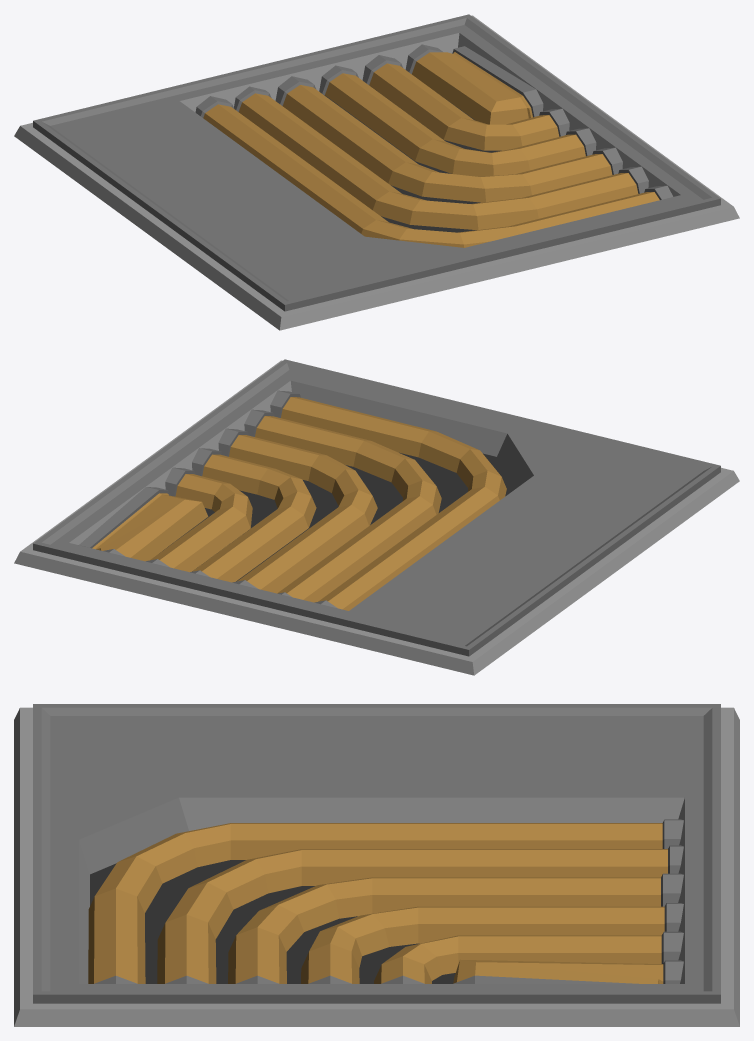
The model's file is RoofTile_InnerCorner_Pipes.fbx.
The picture shows the model from 3 angles, top to bottom: view 1: azimuth 30°, elevation 25°; view 2: azimuth 150°, elevation 25°; view 3: azimuth 270°, elevation 25°; orthographic projection. The views are drawn at different scales.
Parts seen in each view (by area): view 1: RoofTile_InnerCorner_Pipes; view 2: RoofTile_InnerCorner_Pipes; view 3: RoofTile_InnerCorner_Pipes.
Boxes of the visible parts, x1=… form: RoofTile_InnerCorner_Pipes: x1=14, y1=14, x2=739, y2=330; RoofTile_InnerCorner_Pipes: x1=14, y1=359, x2=739, y2=675; RoofTile_InnerCorner_Pipes: x1=14, y1=704, x2=739, y2=1026.
Bounding box in the file's own units: 200 × 11.47 × 200.
